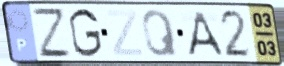2: (220, 8, 253, 59)
A: (185, 9, 226, 57)
G: (67, 6, 104, 59)
Q: (140, 8, 181, 59)
Z: (30, 6, 75, 61), (105, 9, 144, 58)
